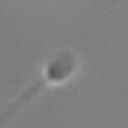normal: (1, 79, 44, 125)
